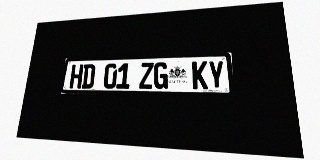0: (103, 63, 118, 89)
1: (116, 63, 131, 89)
D: (81, 64, 96, 89)
G: (153, 62, 168, 89)
H: (69, 64, 84, 89)
K: (192, 61, 208, 89)
Y: (208, 61, 225, 89)
Z: (139, 62, 154, 89)
